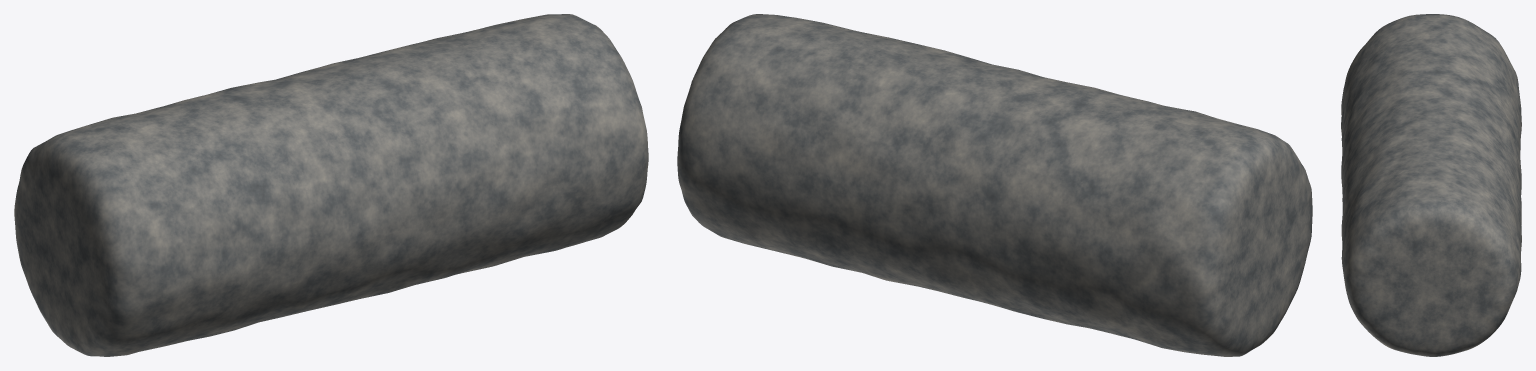
File: basalt_roller.obj
The picture shows the model from 3 angles, left to right: view 1: azimuth 30°, elevation 25°; view 2: azimuth 150°, elevation 25°; view 3: azimuth 270°, elevation 25°; orthographic projection. The views are drawn at different scales.
Visible parts, largest first — view 1: basalt_roller; view 2: basalt_roller; view 3: basalt_roller.
Boxes of the visible parts, x1,y1,x2,y2 form: basalt_roller: (14, 14, 648, 356); basalt_roller: (677, 14, 1312, 356); basalt_roller: (1341, 14, 1521, 356).
Bounding box in the file's own units: 7.99 × 2.99 × 3.
Materials: 1 (1 with a texture image).
